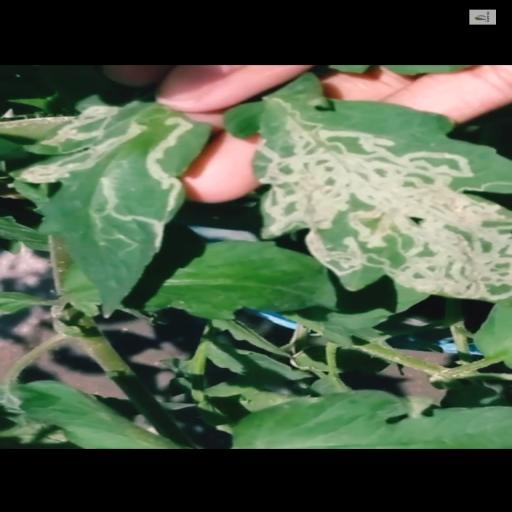Leaf Miner: (222, 71, 512, 303), (15, 98, 217, 316)
